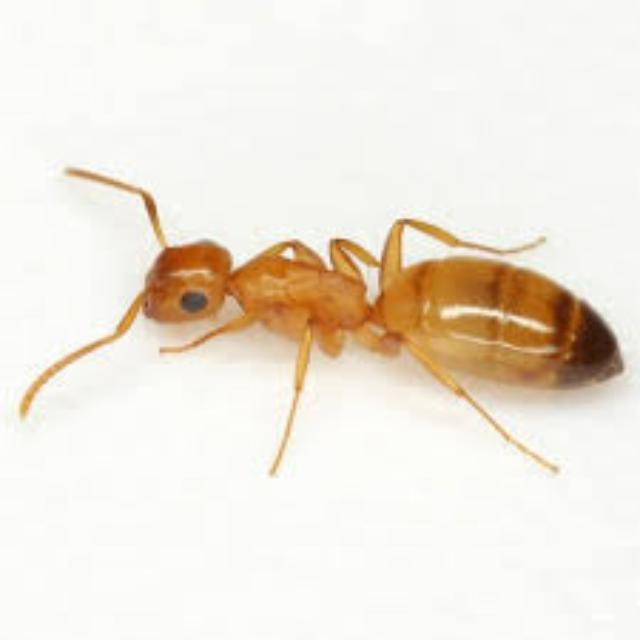Colobopsis: (60, 132, 638, 462)
